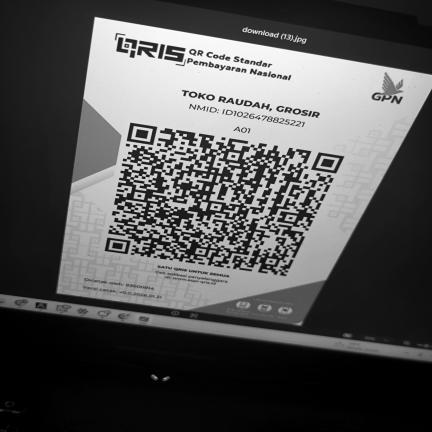Qris-Positioning: (57, 18, 432, 325), (136, 58, 137, 59)
